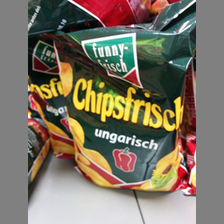chips: (56, 30, 188, 195)
